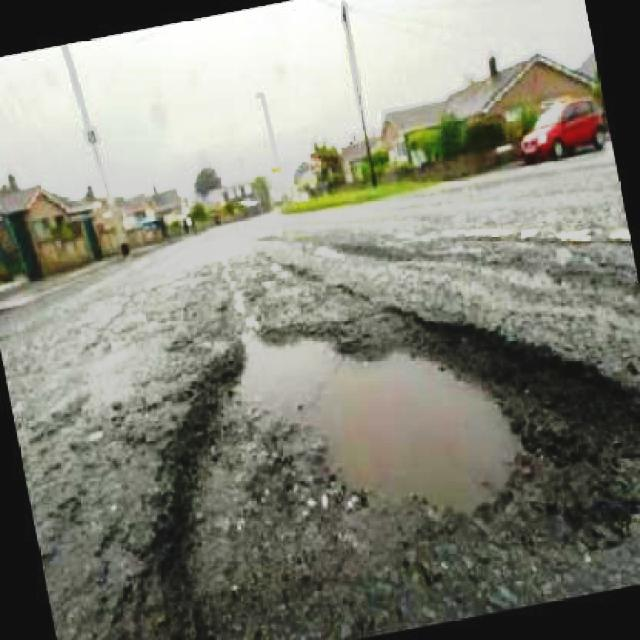pothole: (146, 275, 640, 640)
